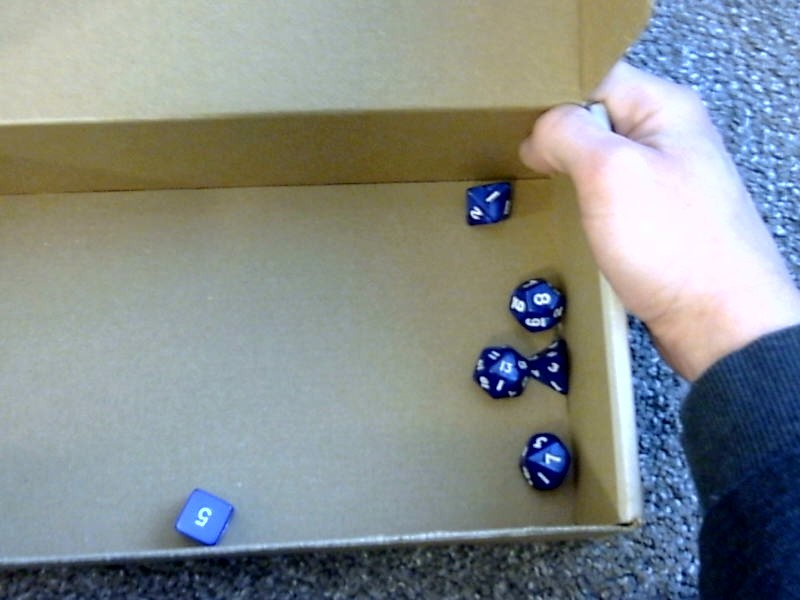d10 7: (517, 426, 572, 496)
d12 8: (504, 271, 569, 333)
d20 13: (464, 341, 529, 401)
d4 3: (528, 335, 573, 395)
d6 5: (167, 481, 238, 548)
d8 1: (456, 177, 516, 228)
